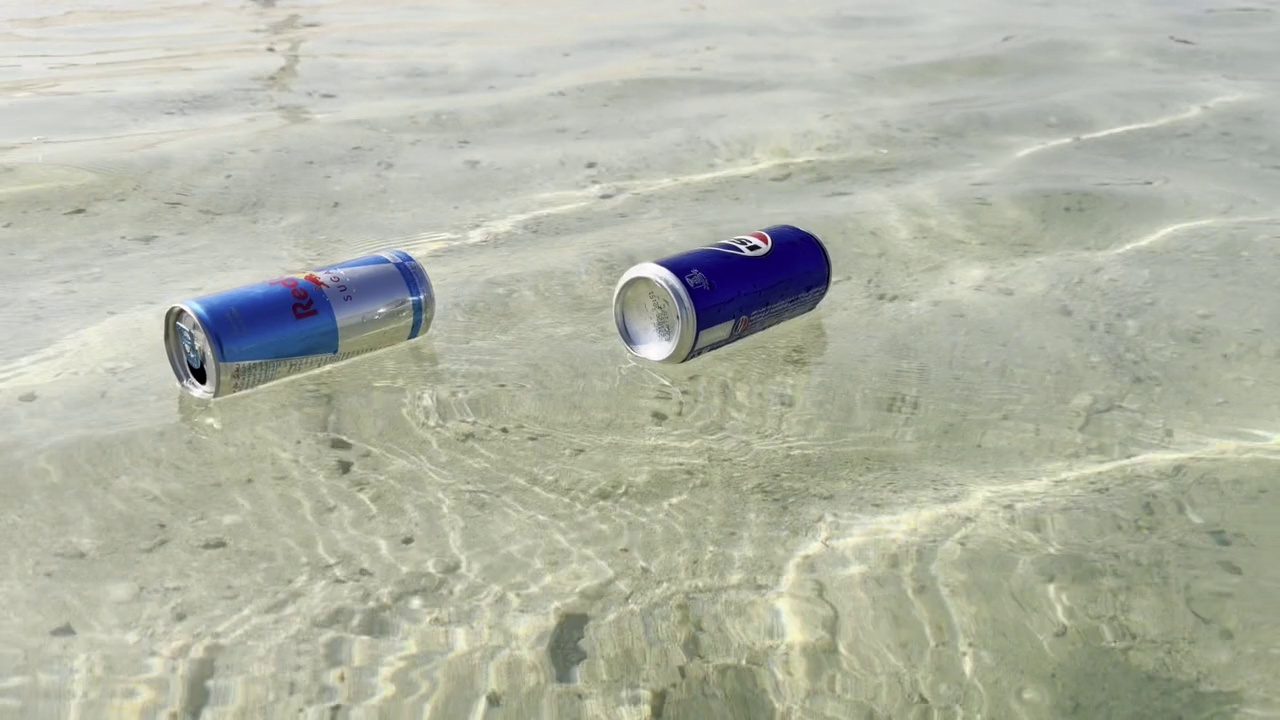debris: (160, 234, 449, 404), (605, 198, 843, 377)
